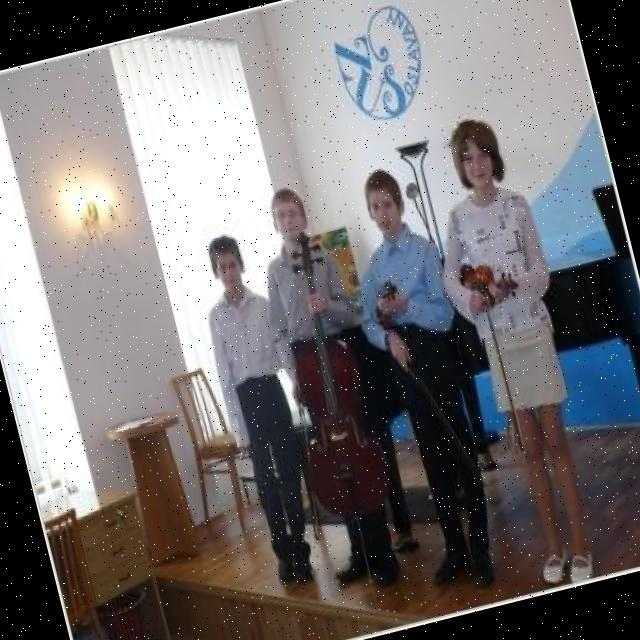cello: (253, 222, 407, 528)
violin: (450, 250, 525, 315), (365, 280, 407, 330)
